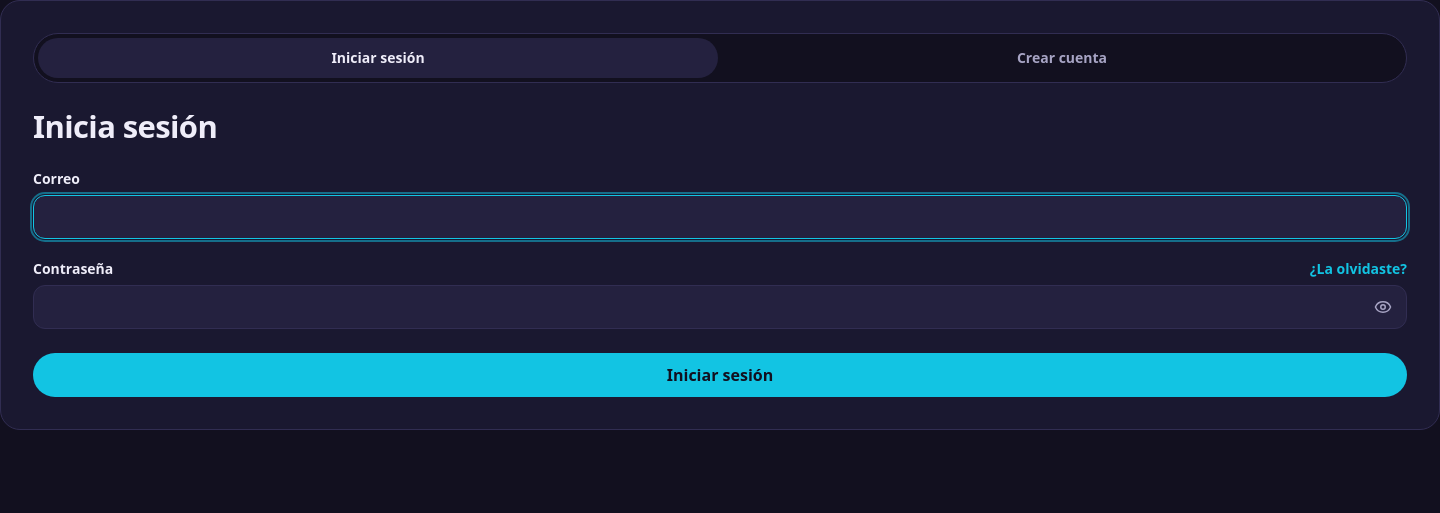
Test case: LoginPage › INVALID_CREDENTIALS muestra un error general sin marcar los campos
This screenshot has width=1440, height=513.
Type "ana@mail.com" into the field labelled "Correo" at x=720, y=217, box [33, 195, 1407, 239]
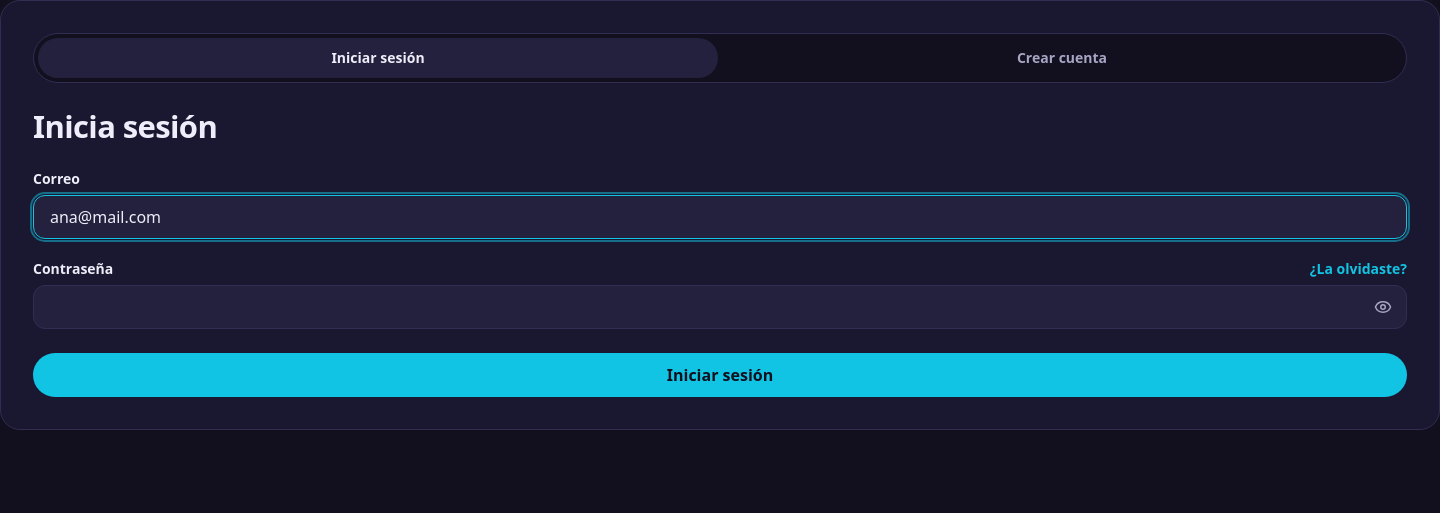
Type "equivocada" into the password field labelled "Contraseña" at x=720, y=307, box [33, 285, 1407, 329]
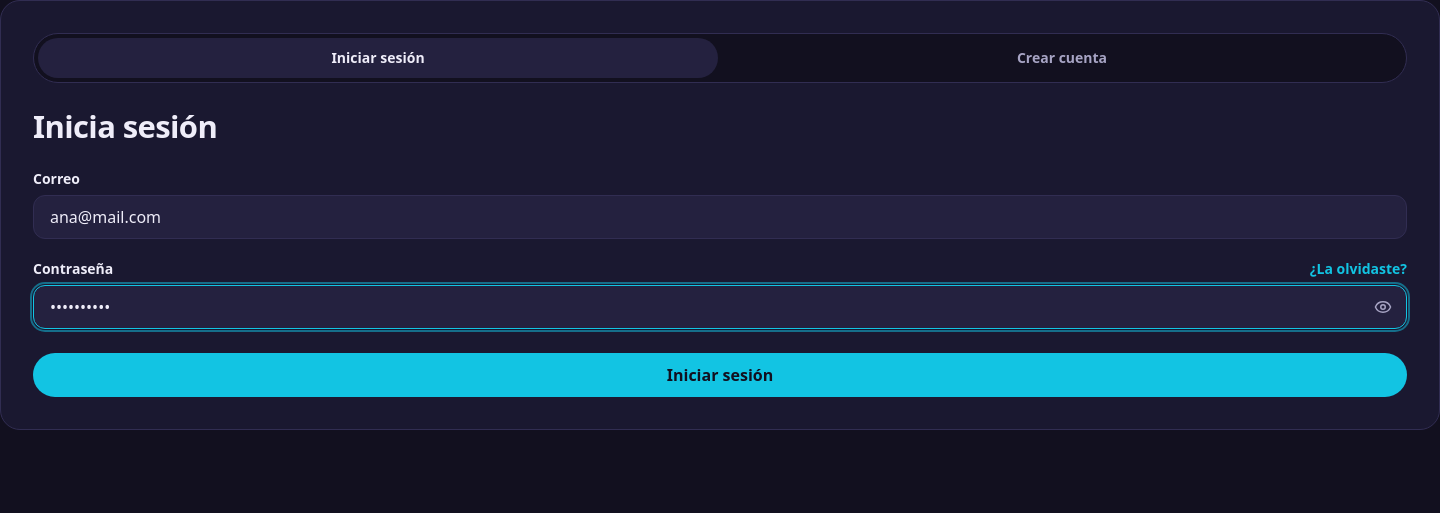
Click the button "Iniciar sesión" at x=720, y=375, box [33, 353, 1407, 397]
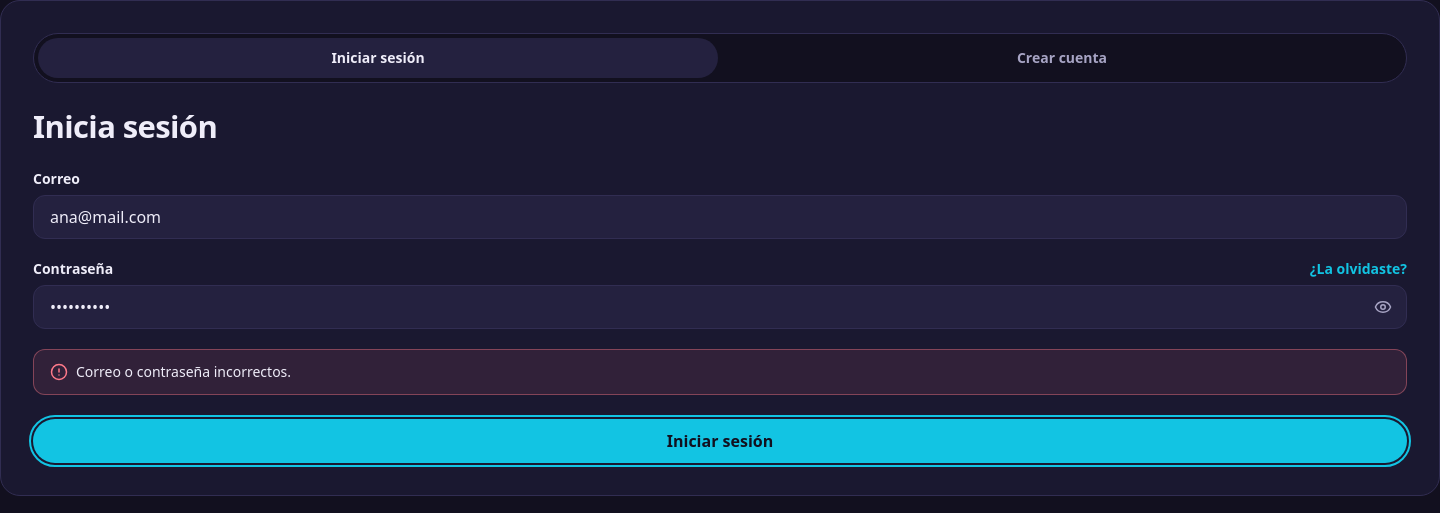
Expected: the message reads "Correo o contraseña incorrectos.", [76, 362, 291, 381]
